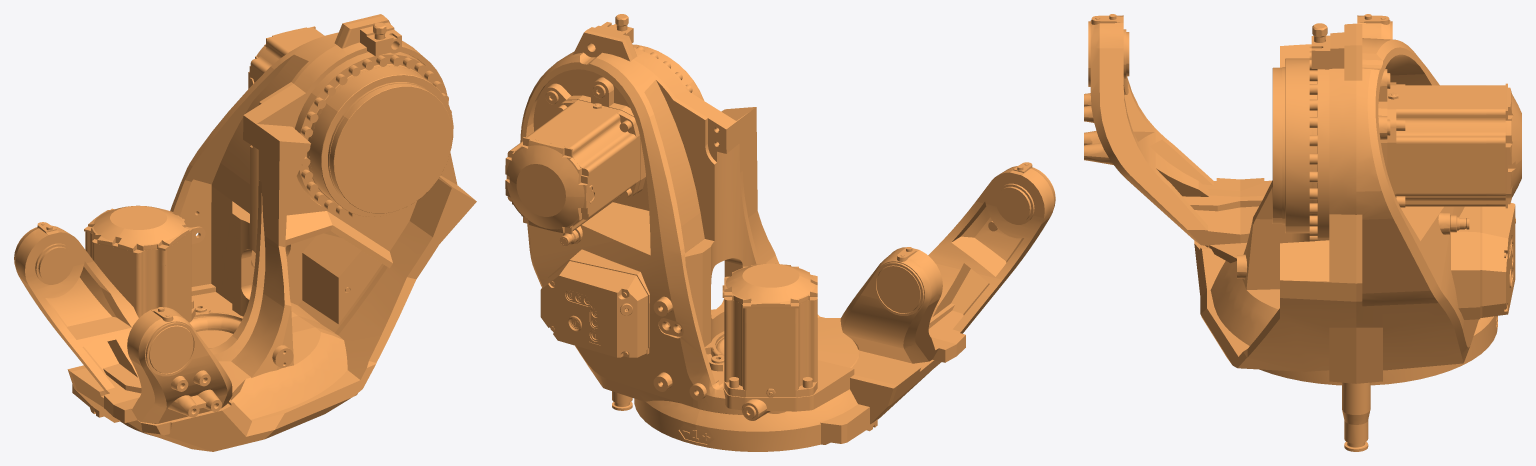
3 views of the same model, side by side, from view 1: azimuth 30°, elevation 25°; view 2: azimuth 150°, elevation 25°; view 3: azimuth 270°, elevation 25° (orthographic). The views are drawn at different scales.
Parts seen in each view (by area): view 1: mesh_0; view 2: mesh_0; view 3: mesh_0.
Boxes of the visible parts, bbox=[...] form: mesh_0: bbox=[14, 14, 476, 451]; mesh_0: bbox=[505, 14, 1055, 451]; mesh_0: bbox=[1084, 14, 1521, 451].
Bounding box in the file's own units: 0.9336 × 0.7955 × 0.7335.
